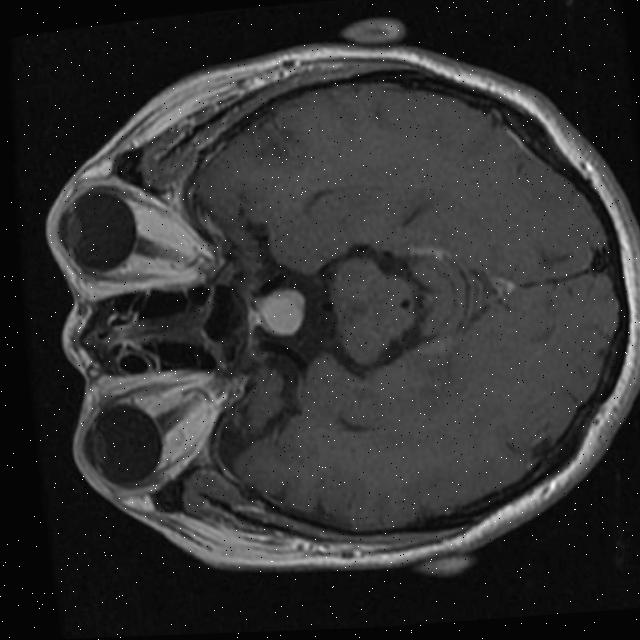Pituitary: (255, 286, 311, 338)
